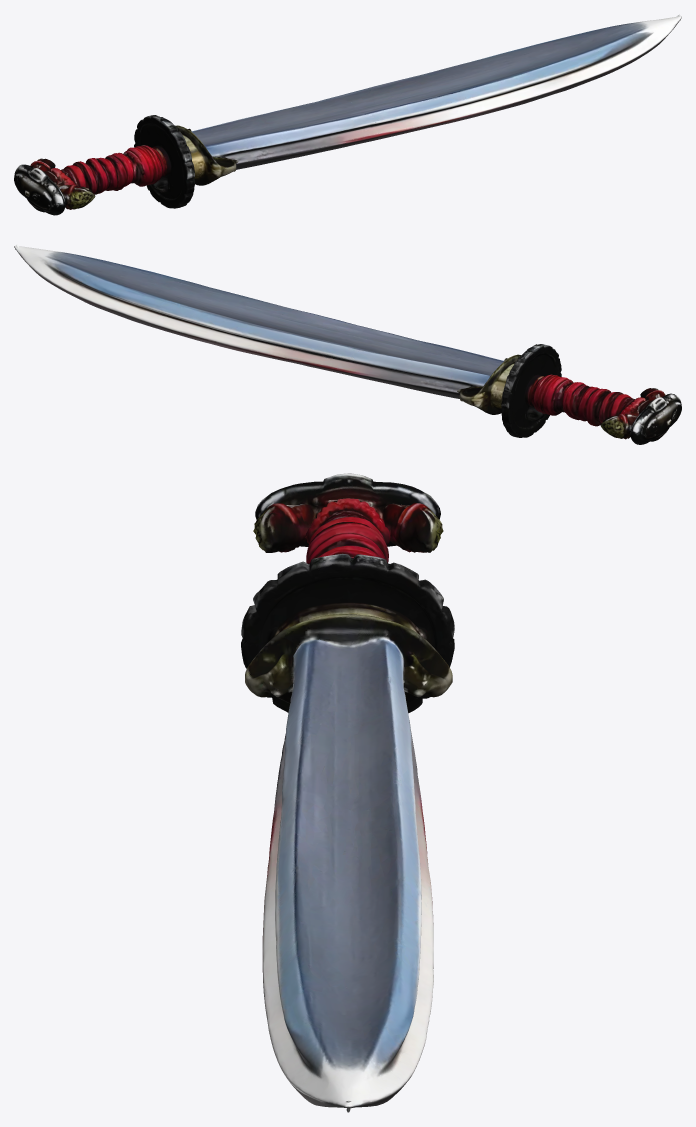
The model's file is rn_nodachi.glb.
The picture shows the model from 3 angles, top to bottom: view 1: azimuth 30°, elevation 25°; view 2: azimuth 150°, elevation 25°; view 3: azimuth 270°, elevation 25°; orthographic projection. The views are drawn at different scales.
Visible parts, largest first — view 1: tripo_node_8fd409ce-9550-4d52-bbf6-51de9eca350b; view 2: tripo_node_8fd409ce-9550-4d52-bbf6-51de9eca350b; view 3: tripo_node_8fd409ce-9550-4d52-bbf6-51de9eca350b.
Part boxes in pixels (bbox=[...]): tripo_node_8fd409ce-9550-4d52-bbf6-51de9eca350b: bbox=[14, 14, 681, 215]; tripo_node_8fd409ce-9550-4d52-bbf6-51de9eca350b: bbox=[14, 244, 681, 444]; tripo_node_8fd409ce-9550-4d52-bbf6-51de9eca350b: bbox=[241, 473, 454, 1112].
Bounding box in the file's own units: 0.9868 × 0.1197 × 0.1392.
Materials: 1 (1 with a texture image).
